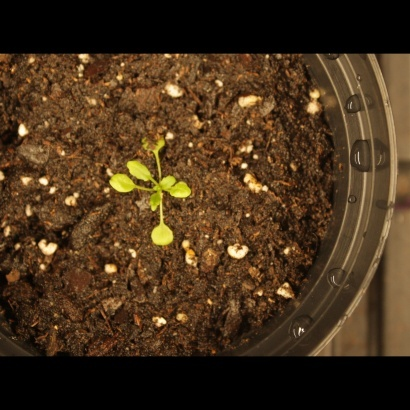leaf: (148, 219, 180, 254), (105, 171, 138, 199), (123, 156, 154, 184), (139, 130, 171, 157), (168, 179, 194, 203), (148, 191, 171, 214), (157, 170, 180, 193)
